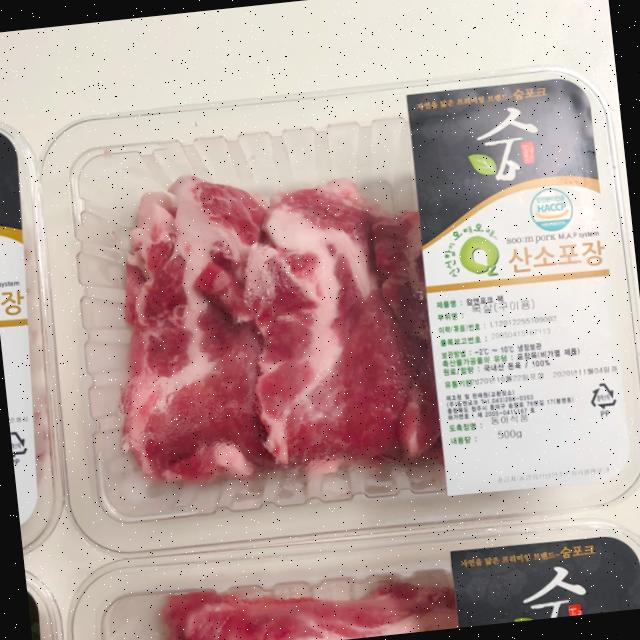meat: (27, 65, 640, 573)
